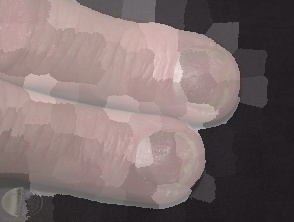Nail_psoriasis: (104, 107, 220, 216), (151, 30, 250, 128)
